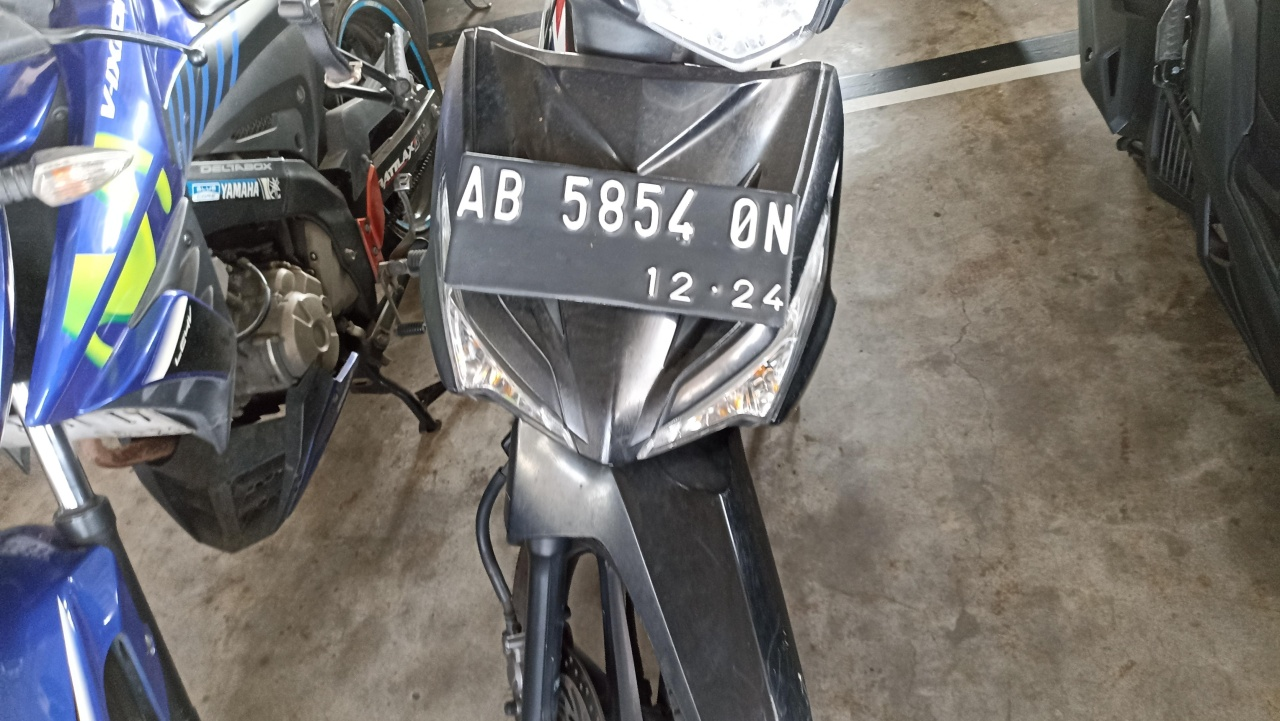plate: (443, 152, 800, 324)
